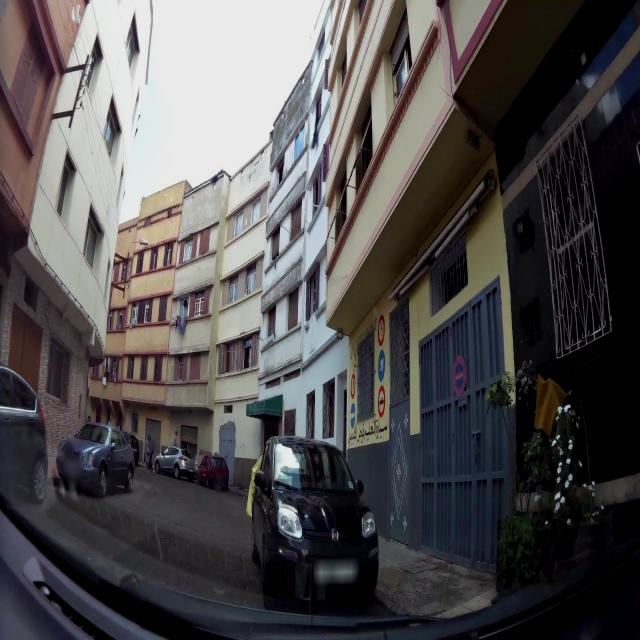car: (248, 433, 379, 604), (0, 356, 48, 506), (54, 422, 136, 496), (152, 445, 198, 480), (197, 452, 230, 491), (124, 431, 140, 466)
